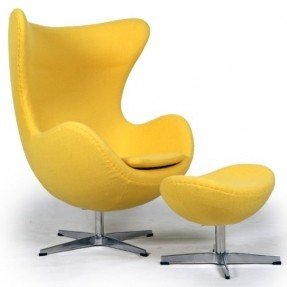chairs: (3, 7, 194, 262), (160, 165, 282, 279)
